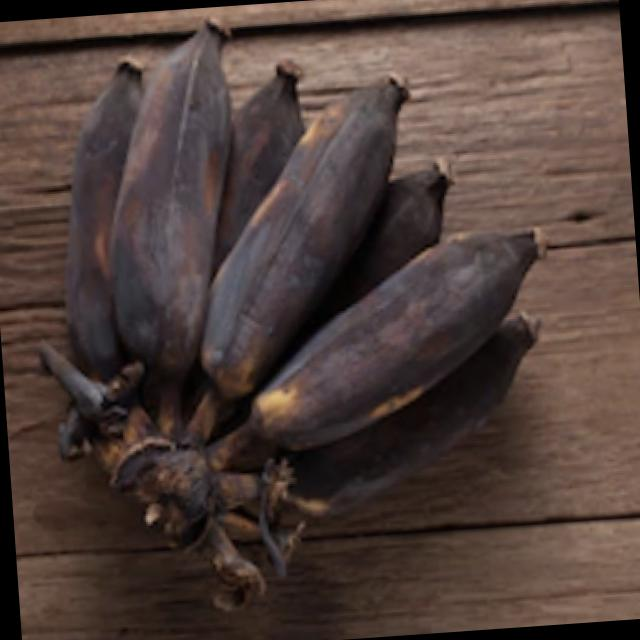rotten-banana: (189, 82, 430, 376), (247, 255, 568, 444), (88, 17, 240, 371)
